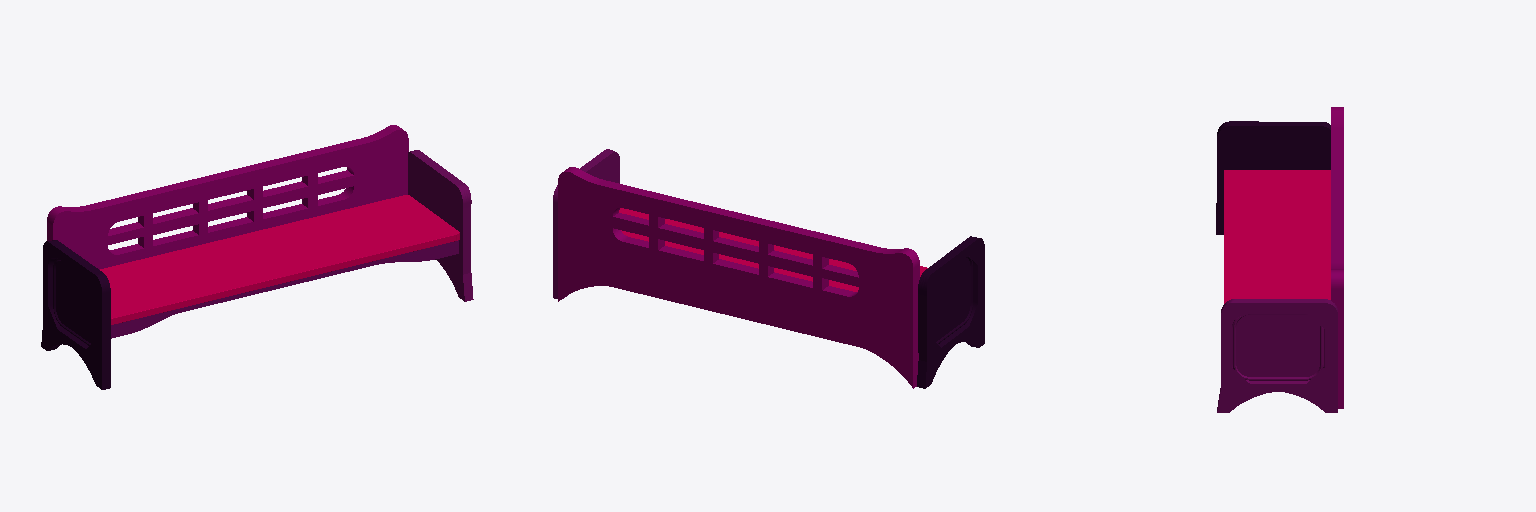
The model's file is 1_banca.obj.
3 views of the same model, side by side, from view 1: azimuth 30°, elevation 25°; view 2: azimuth 150°, elevation 25°; view 3: azimuth 270°, elevation 25° (orthographic).
Visible parts, largest first — view 1: Cube.003_Cube.004, Cube, Cube.002, Cube.001, Cube.004_Cube.003; view 2: Cube.003_Cube.004, Cube.002, Cube, Cube.001; view 3: Cube, Cube.001, Cube.002, Cube.003_Cube.004.
Boxes of the visible parts, x1=… form: Cube.003_Cube.004: x1=47, y1=125, x2=408, y2=269; Cube: x1=100, y1=195, x2=459, y2=324; Cube.002: x1=41, y1=240, x2=110, y2=389; Cube.001: x1=408, y1=150, x2=473, y2=301; Cube.004_Cube.003: x1=111, y1=240, x2=458, y2=338; Cube.003_Cube.004: x1=558, y1=167, x2=919, y2=388; Cube.002: x1=917, y1=236, x2=984, y2=388; Cube: x1=619, y1=208, x2=927, y2=291; Cube.001: x1=553, y1=149, x2=619, y2=298; Cube: x1=1224, y1=170, x2=1330, y2=303; Cube.001: x1=1217, y1=299, x2=1337, y2=412; Cube.002: x1=1216, y1=121, x2=1330, y2=234; Cube.003_Cube.004: x1=1331, y1=107, x2=1343, y2=408.
Bounding box in the file's own units: 7.08 × 2.42 × 2.1.